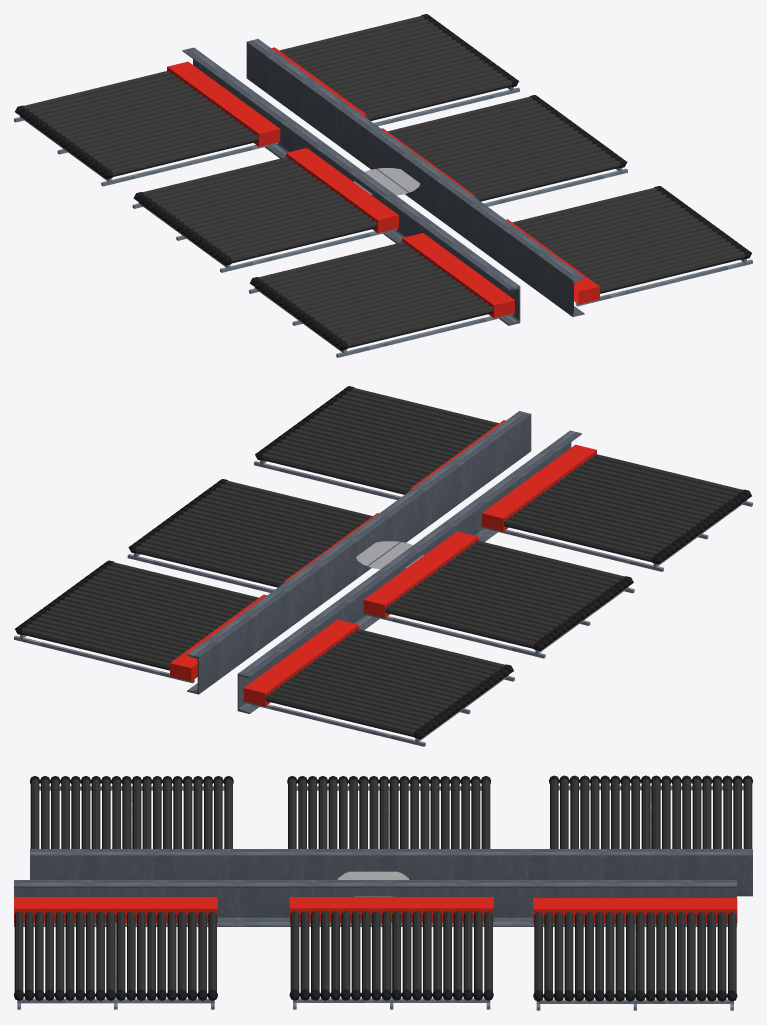
File: Solarzellenklein.dae
3 renders of one model, top to bottom at view 1: azimuth 30°, elevation 25°; view 2: azimuth 150°, elevation 25°; view 3: azimuth 270°, elevation 25°, orthographic. The views are drawn at different scales.
Parts seen in each view (by area): view 1: Komponente (×139); view 2: Komponente (×139); view 3: Komponente (×135).
Part boxes in pixels (x1,y1,x2,y2): Komponente (×139): (15, 14, 752, 357); Komponente (×139): (14, 386, 751, 746); Komponente (×135): (14, 775, 752, 1003).
Size of the model in its own units: 726 by 1023 by 62.24.
